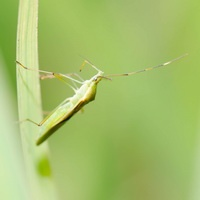insect: (16, 54, 187, 145)
